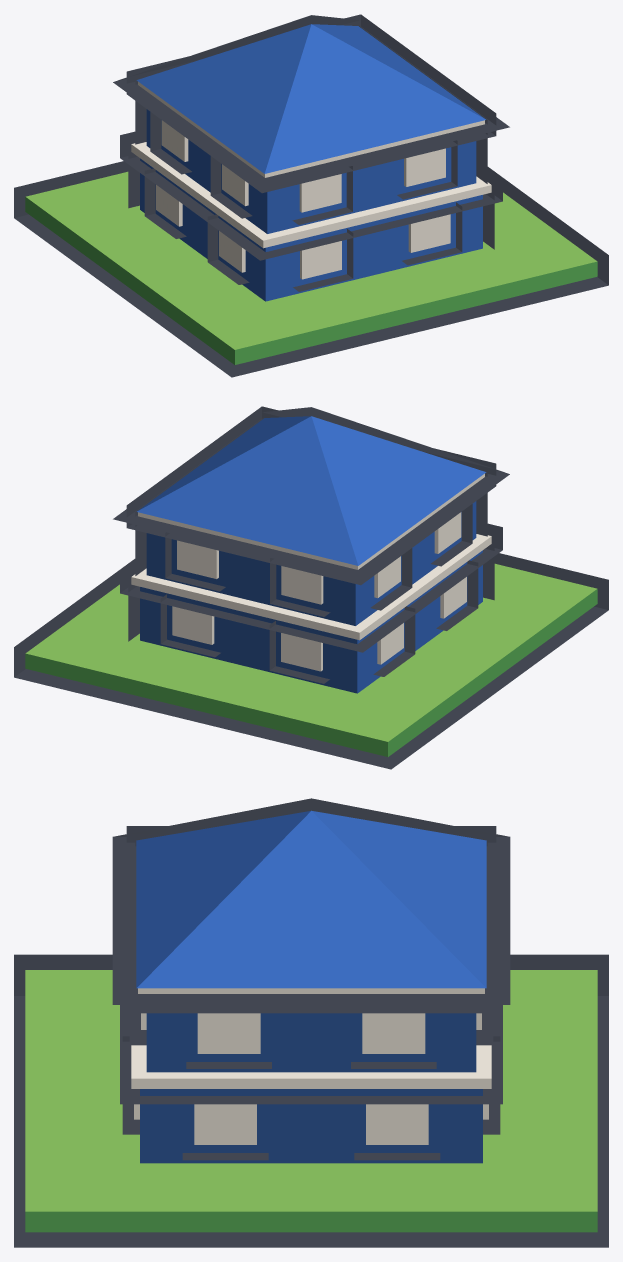
The model's file is skill_multiply_tower_t1.glb.
3 renders of one model, top to bottom at view 1: azimuth 30°, elevation 25°; view 2: azimuth 150°, elevation 25°; view 3: azimuth 270°, elevation 25°, orthographic. The views are drawn at different scales.
Parts seen in each view (by area): view 1: base, ink_outline (×4), roof, floor_1, floor_2; view 2: base, ink_outline (×4), roof, floor_1, floor_2; view 3: base, roof, ink_outline (×4), floor_1, floor_2.
Boxes of the visible parts, bbox=[...] form: base: bbox=[25, 171, 597, 364]; ink_outline (×4): bbox=[14, 14, 608, 377]; roof: bbox=[136, 24, 485, 173]; floor_1: bbox=[131, 142, 491, 301]; floor_2: bbox=[138, 81, 484, 233]; base: bbox=[25, 563, 597, 756]; ink_outline (×4): bbox=[14, 406, 608, 769]; roof: bbox=[137, 416, 486, 565]; floor_1: bbox=[131, 534, 491, 693]; floor_2: bbox=[138, 473, 484, 625]; base: bbox=[25, 970, 597, 1232]; roof: bbox=[136, 810, 486, 988]; ink_outline (×4): bbox=[14, 798, 608, 1247]; floor_1: bbox=[131, 1045, 491, 1163]; floor_2: bbox=[138, 988, 484, 1072].
Size of the model in its own units: 1.04 by 0.6239 by 1.04.
